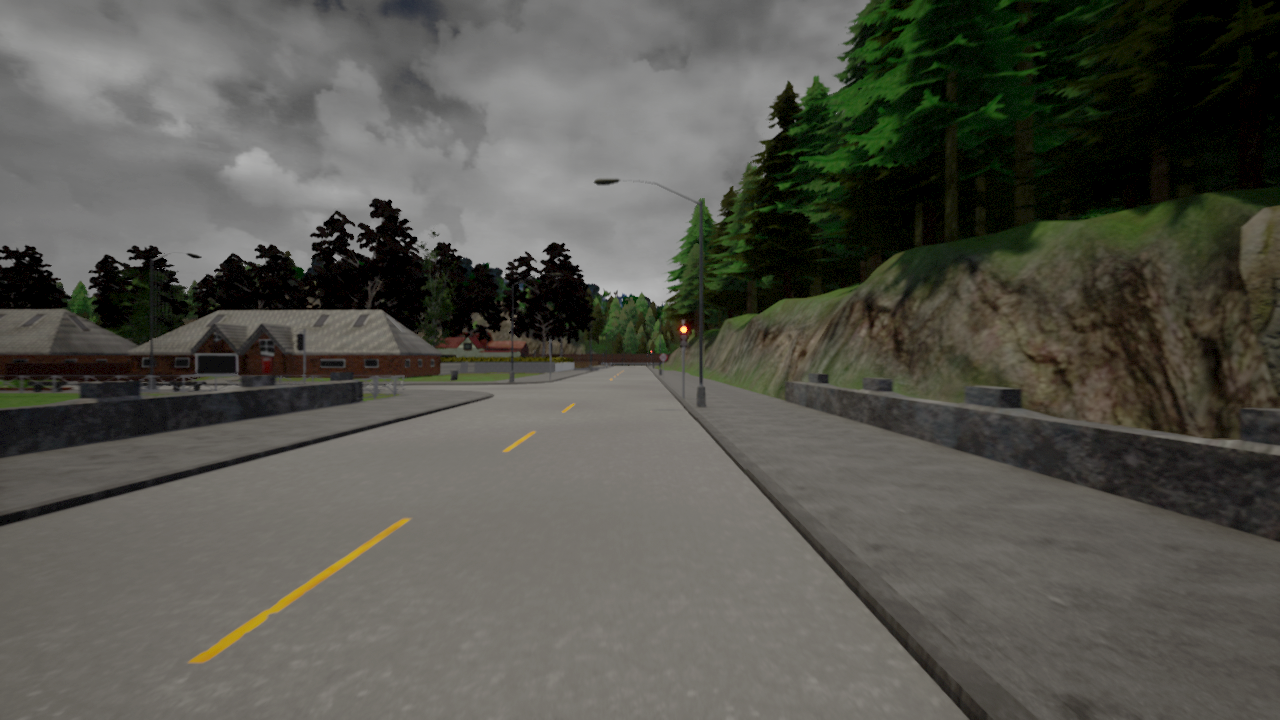red: (679, 324, 690, 350)
